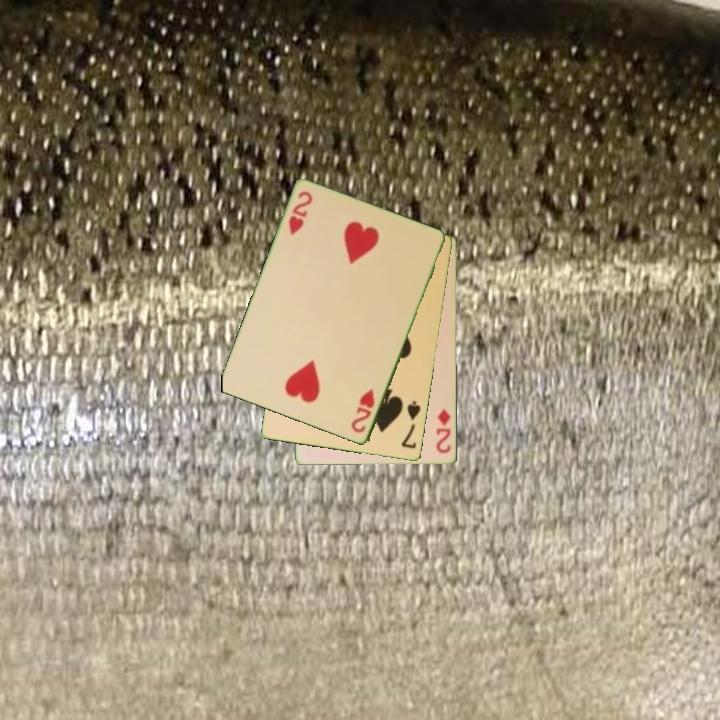2d: (433, 405, 454, 456)
2h: (348, 385, 378, 436), (285, 188, 315, 238)
7s: (398, 398, 424, 452)
